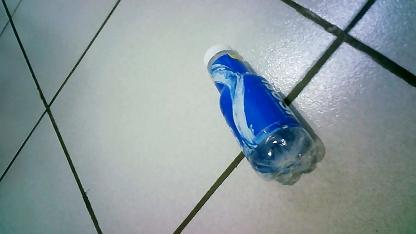Plastic Bottle: (186, 39, 332, 193)
